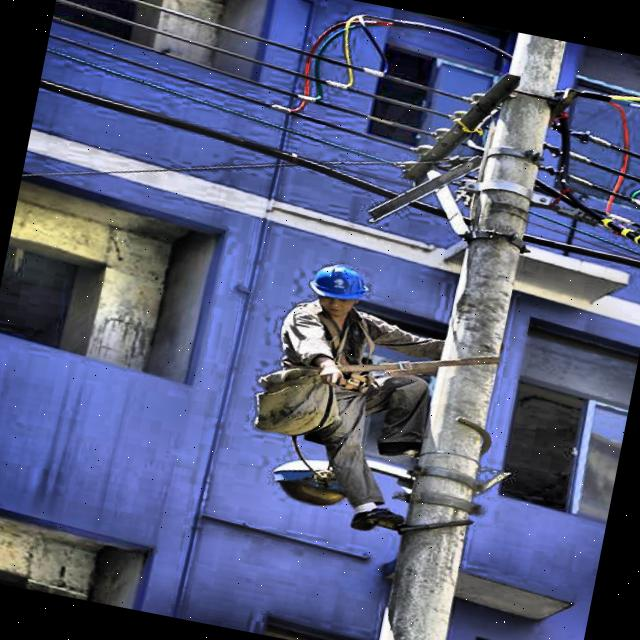helmet: (299, 252, 380, 336)
